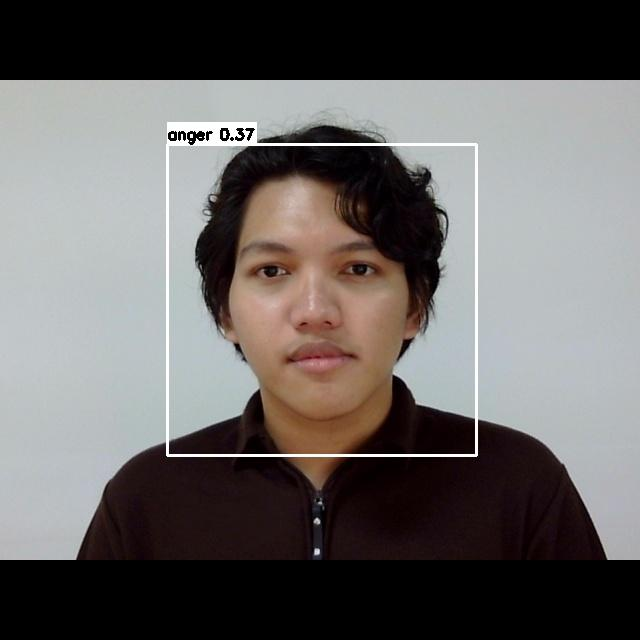Natural: (216, 212, 415, 404)
